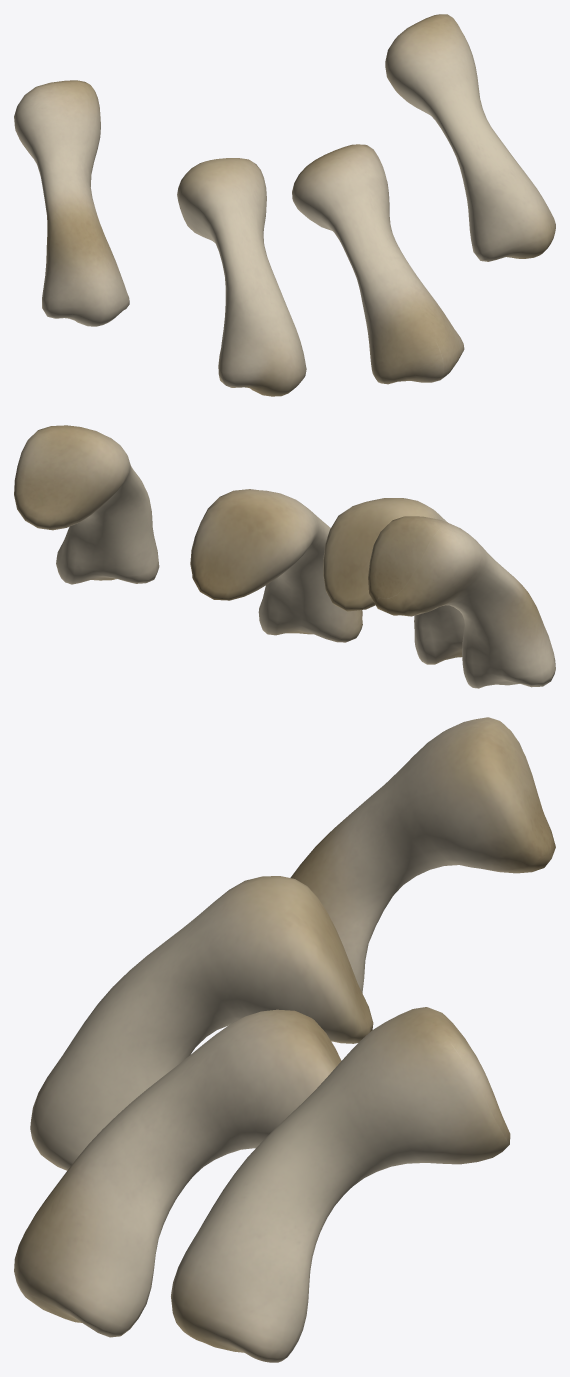
File: BR 2nd Phalanx.fbx
3 views of the same model, one above another, from view 1: azimuth 30°, elevation 25°; view 2: azimuth 150°, elevation 25°; view 3: azimuth 270°, elevation 25° (orthographic). The views are drawn at different scales.
Parts seen in each view (by area): view 1: BR 2nd Phalanx; view 2: BR 2nd Phalanx; view 3: BR 2nd Phalanx.
Part boxes in pixels (left/top/right/bottom): BR 2nd Phalanx: left=14, top=14, right=555, bottom=396; BR 2nd Phalanx: left=14, top=425, right=555, bottom=688; BR 2nd Phalanx: left=14, top=717, right=555, bottom=1362.
Bounding box in the file's own units: 7.79 × 3.96 × 4.78.
